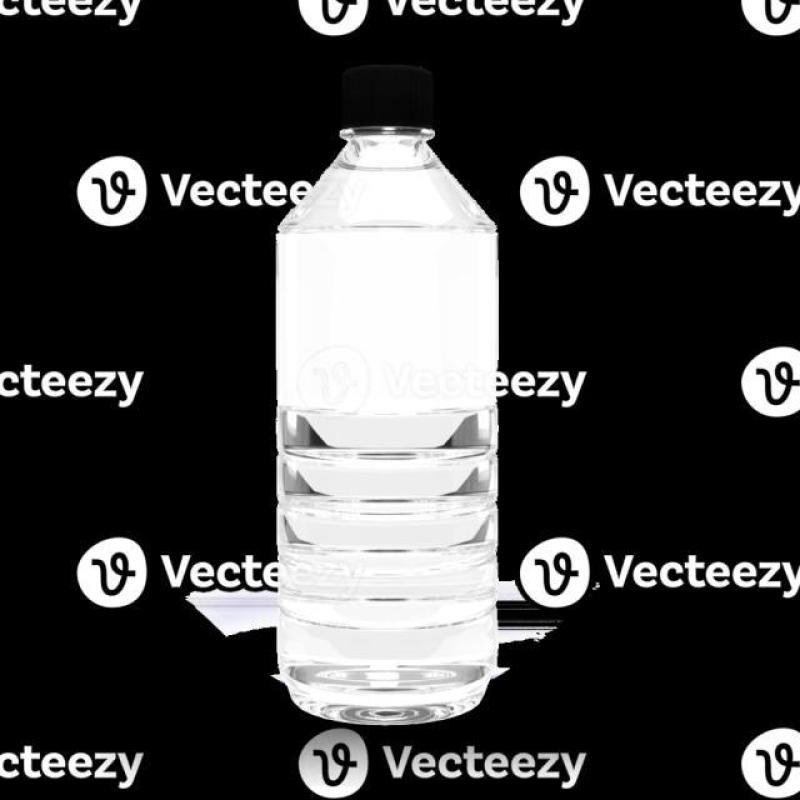botella: (284, 116, 500, 726)
